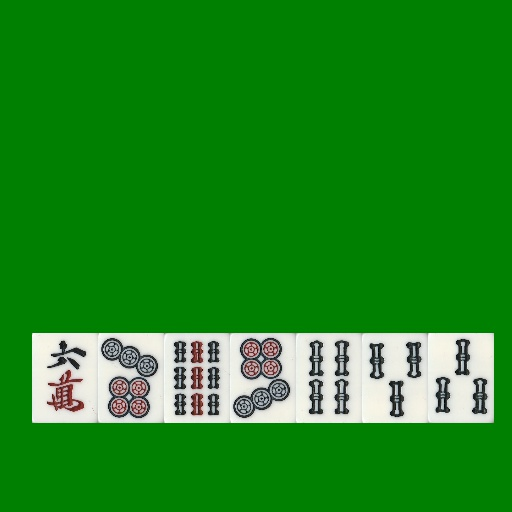3s: (362, 333, 428, 423), (428, 333, 494, 423)
4s: (296, 333, 362, 423)
6m: (32, 333, 98, 423)
7p: (98, 333, 164, 423), (230, 333, 296, 423)
9s: (164, 333, 230, 423)
